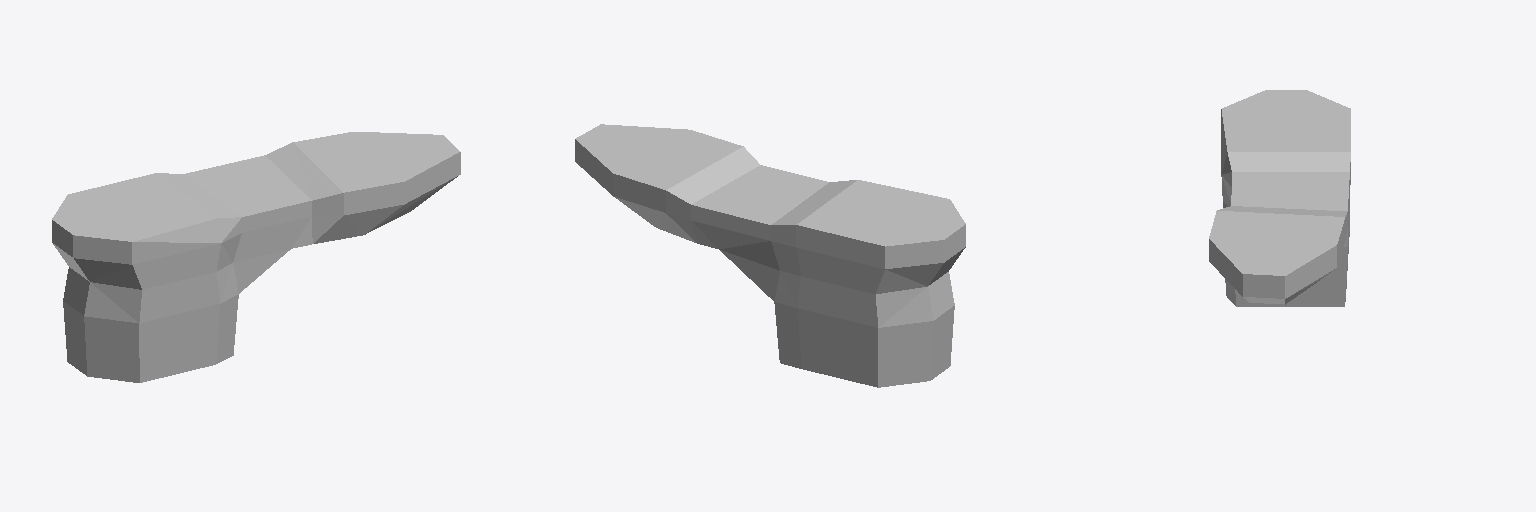
The model's file is footRight.obj.
3 renders of one model, left to right at view 1: azimuth 30°, elevation 25°; view 2: azimuth 150°, elevation 25°; view 3: azimuth 270°, elevation 25°, orthographic.
Bounding box in the file's own units: 7.77 × 2.84 × 2.51.